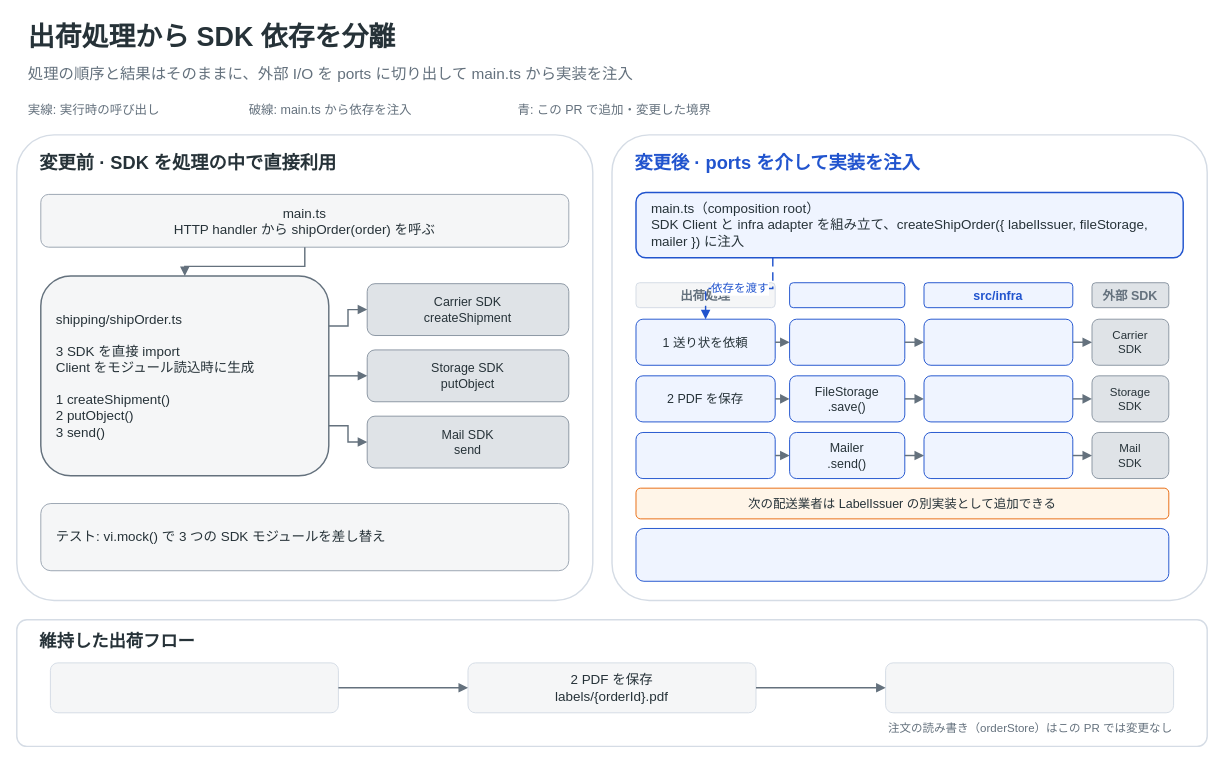
Some shapes in this 1225 by 763 pixel diagram are drawn without their labels. The shapes that lost their labels are listed below. From the top down, each one's box as (x1, y1, x2, y2) in pixels, then its label:
(789, 282, 905, 308): shipping/ports.ts
(789, 318, 905, 365): LabelIssuer .issue()
(923, 318, 1073, 365): CarrierSdk LabelIssuer
(923, 375, 1073, 422): StorageSdk FileStorage
(635, 432, 775, 479): 3 出荷メールを送信
(923, 432, 1073, 479): MailSdk Mailer
(635, 528, 1169, 581): テスト: ports の fake を注入し、SDK のモックなしで依頼内容を検証
(49, 662, 338, 713): 1 送り状を発行 宛先・総重量
(885, 662, 1174, 713): 3 出荷通知を送信 追跡番号を記載
